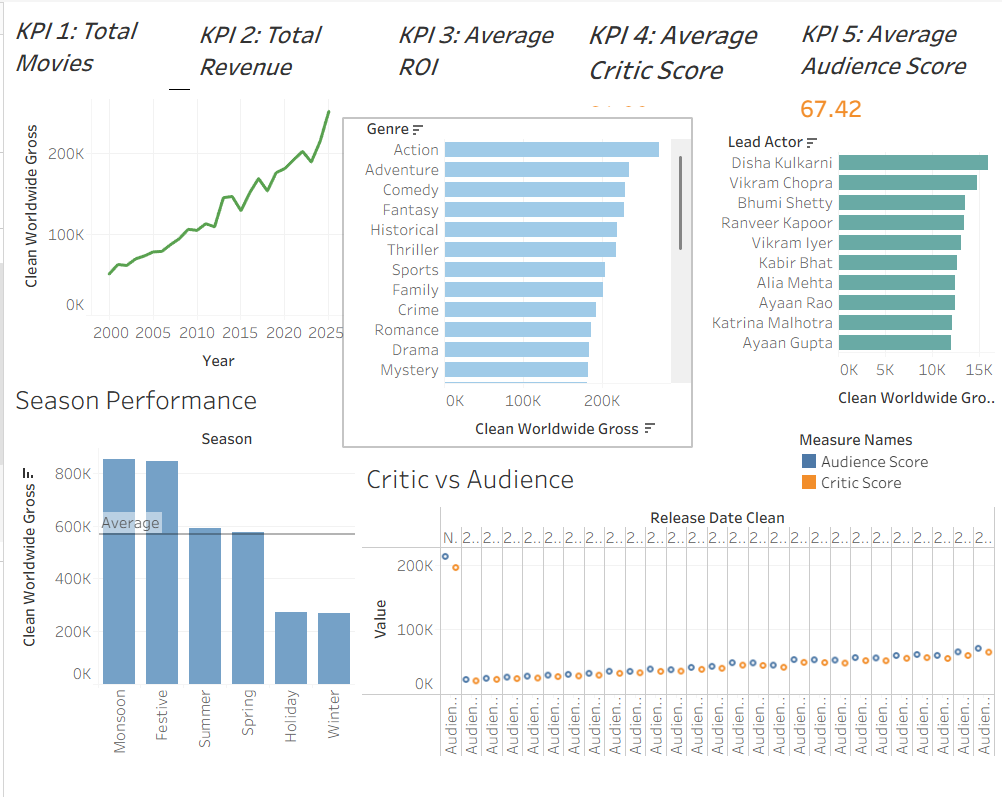

The page's visual inventory and layout, read from the dashboard file:
{"tool":"tableau","page":{"name":"Box_Office_Dashboard","canvas":[1000,800],"ordinal":0},"visuals":[{"type":"worksheet","title":"KPI 1: Total Movies","mark":"Automatic","box":[6,8,180,80]},{"type":"worksheet","title":"KPI 4: Average Critic Score","mark":"Automatic","box":[579,11,244,94]},{"type":"worksheet","title":"KPI 5: Average Audience Score","mark":"Automatic","box":[792,11,204,113]},{"type":"worksheet","title":"KPI 2: Total Revenue","mark":"Automatic","box":[190,12,194,79]},{"type":"worksheet","title":"KPI 3: Average ROI","mark":"Automatic","box":[389,12,179,78]},{"type":"worksheet","title":"Revenue Trend","mark":"Automatic","rows":["Calculation_0014753200242690"],"cols":["year"],"box":[9,97,333,279]},{"type":"worksheet","title":"Genre Performance","mark":"Automatic","rows":["genre"],"cols":["Calculation_0014753200242690"],"box":[340,117,347,327]},{"type":"worksheet","title":"Actor Power","mark":"Automatic","rows":["lead_actor"],"cols":["Calculation_0014753200242690"],"box":[694,130,297,294]},{"type":"worksheet","title":"Season Performance","mark":"Bar","rows":["Calculation_0014753200242690"],"cols":["season"],"box":[7,376,344,386]},{"type":"legend","title":"Critic vs Audience","param":"[federated.16p4ek90xkbzlh18wiyws04ytopz].[:Measure Names]","box":[795,427,208,73]},{"type":"worksheet","title":"Critic vs Audience","mark":"Shape","cols":["Calculation_0014753203060742"],"box":[358,455,633,301]}]}

Visuals, with their boxes in screenshot pixels (x1, y1, x2, y2), scaled from the page's 1000x800 canvas onto the 1002x797 screenshot:
"KPI 1: Total Movies" worksheet: region(6, 8, 186, 88)
"KPI 4: Average Critic Score" worksheet: region(580, 11, 825, 105)
"KPI 5: Average Audience Score" worksheet: region(794, 11, 998, 124)
"KPI 2: Total Revenue" worksheet: region(190, 12, 385, 91)
"KPI 3: Average ROI" worksheet: region(390, 12, 569, 90)
"Revenue Trend" worksheet: region(9, 97, 343, 375)
"Genre Performance" worksheet: region(341, 117, 688, 442)
"Actor Power" worksheet: region(695, 130, 993, 422)
"Season Performance" worksheet (Bar marks): region(7, 375, 352, 759)
"Critic vs Audience" legend: region(797, 425, 1001, 498)
"Critic vs Audience" worksheet (Shape marks): region(359, 453, 993, 753)
